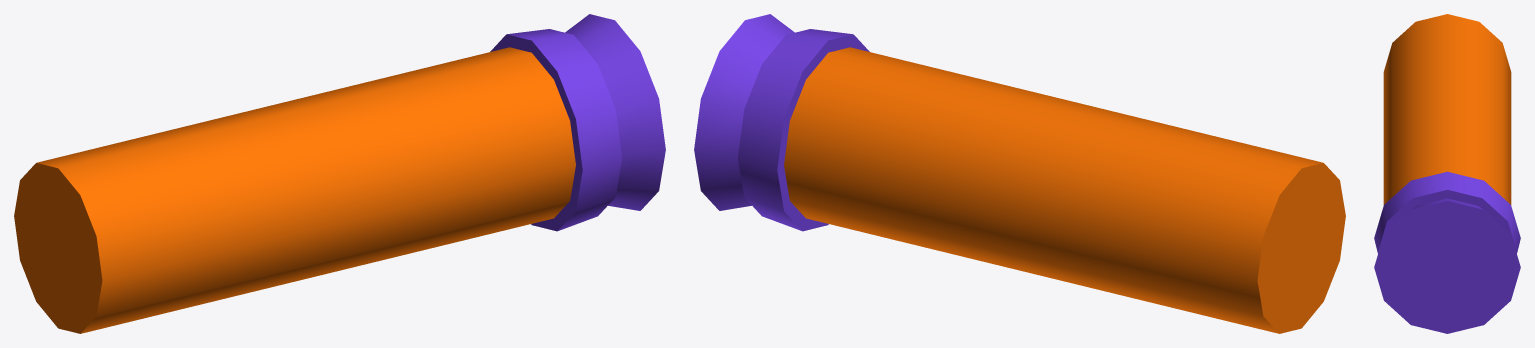
The model's file is Dart.glb.
The picture shows the model from 3 angles, left to right: view 1: azimuth 30°, elevation 25°; view 2: azimuth 150°, elevation 25°; view 3: azimuth 270°, elevation 25°; orthographic projection. The views are drawn at different scales.
Visible parts, largest first — view 1: Dart Body, Dart Tip; view 2: Dart Body, Dart Tip; view 3: Dart Body, Dart Tip.
Part boxes in pixels (box(x1,y1,x2,y2)): Dart Body: box(14, 47, 575, 333); Dart Tip: box(490, 14, 665, 231); Dart Body: box(784, 47, 1345, 333); Dart Tip: box(694, 14, 869, 231); Dart Body: box(1383, 14, 1511, 204); Dart Tip: box(1374, 171, 1520, 333).
Bounding box in the file's own units: 0.0734 × 0.0233 × 0.0233.
